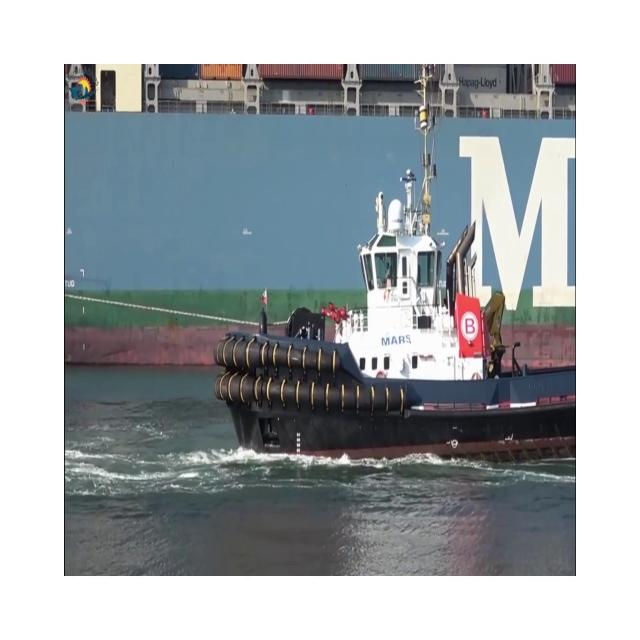OCR: (381, 324, 410, 358)
